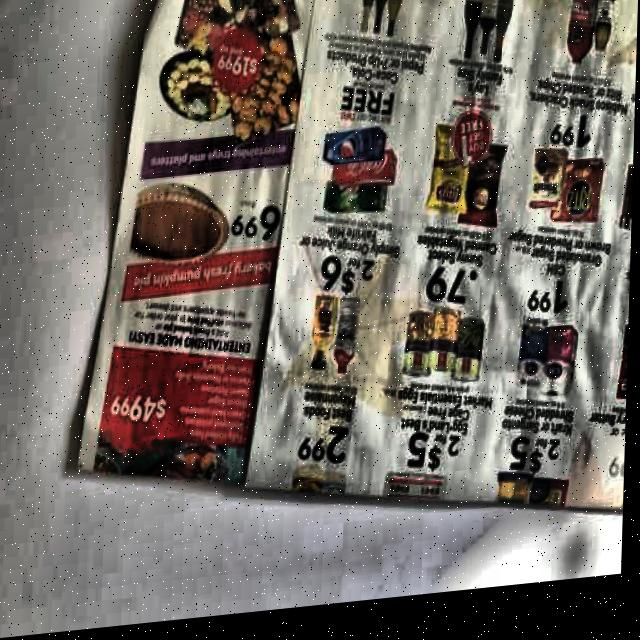paper: (69, 0, 640, 576)
